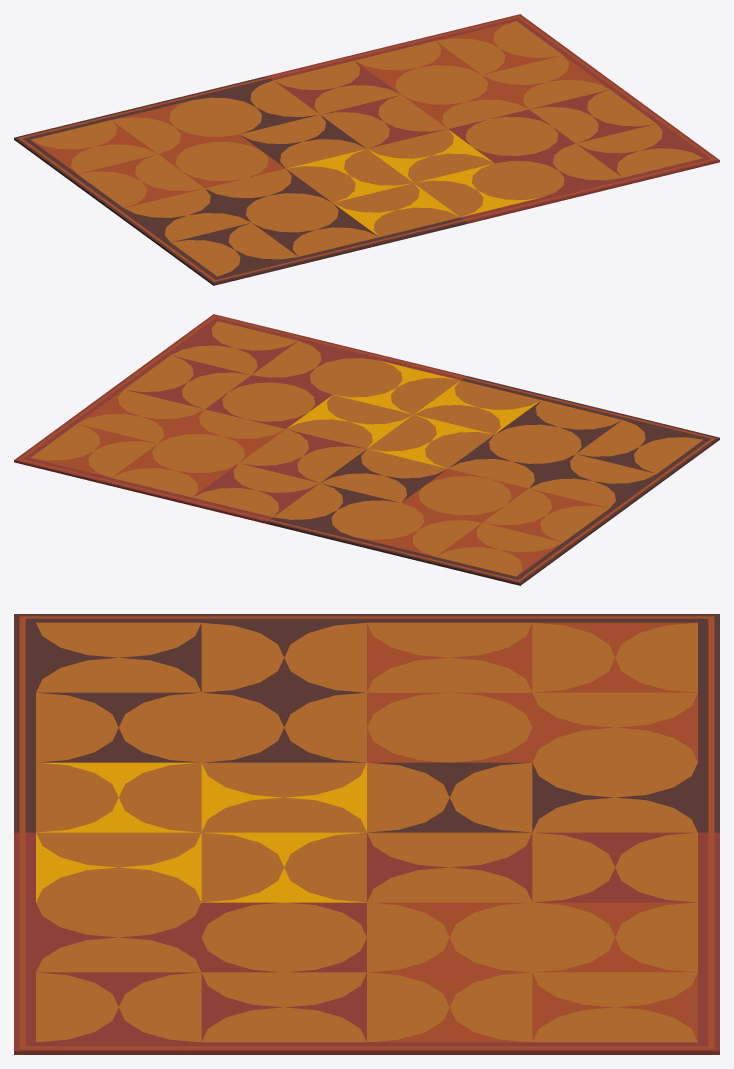
File: Large Square Rug.fbx
3 views of the same model, one above another, from view 1: azimuth 30°, elevation 25°; view 2: azimuth 150°, elevation 25°; view 3: azimuth 270°, elevation 25° (orthographic). The views are drawn at different scales.
Visible parts, largest first — view 1: Circle.009; view 2: Circle.009; view 3: Circle.009.
Part boxes in pixels (x1=…): Circle.009: x1=14, y1=14, x2=719, y2=285; Circle.009: x1=14, y1=314, x2=719, y2=585; Circle.009: x1=14, y1=614, x2=719, y2=1054.
Size of the model in its own units: 24351 by 16627 by 100.
